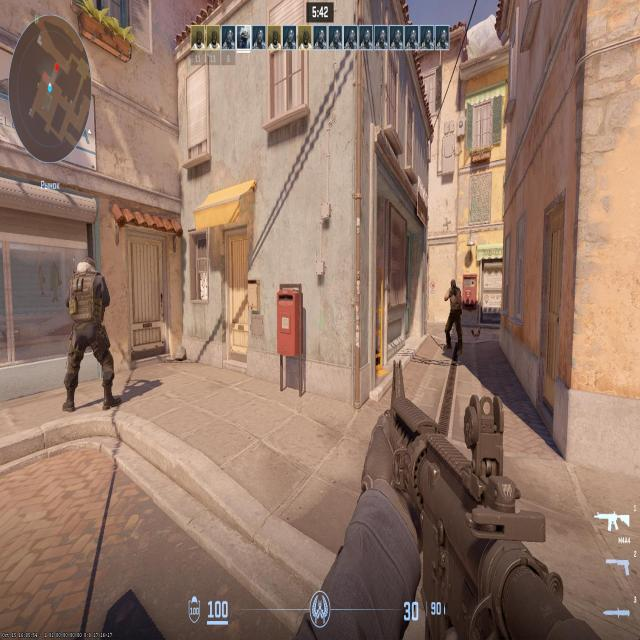CT: (70, 262, 110, 403)
CT_heat: (84, 265, 95, 282)
T: (449, 281, 461, 354)
T_heat: (452, 283, 458, 292)
